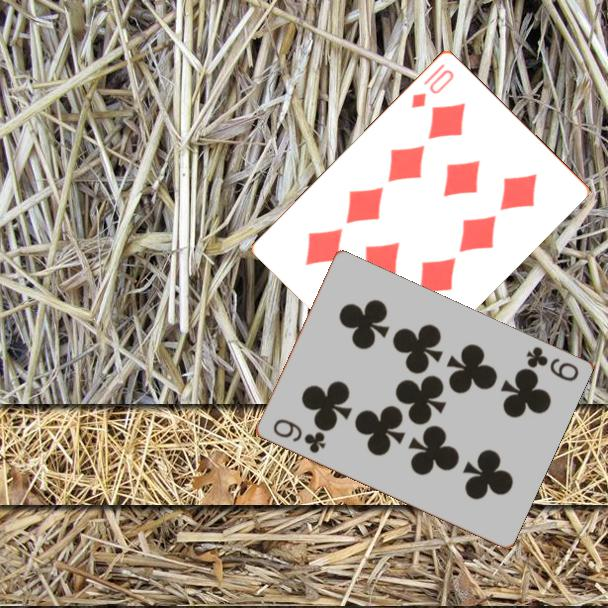c09: (269, 415, 328, 457), (522, 343, 581, 385)
d10: (408, 66, 457, 111)
